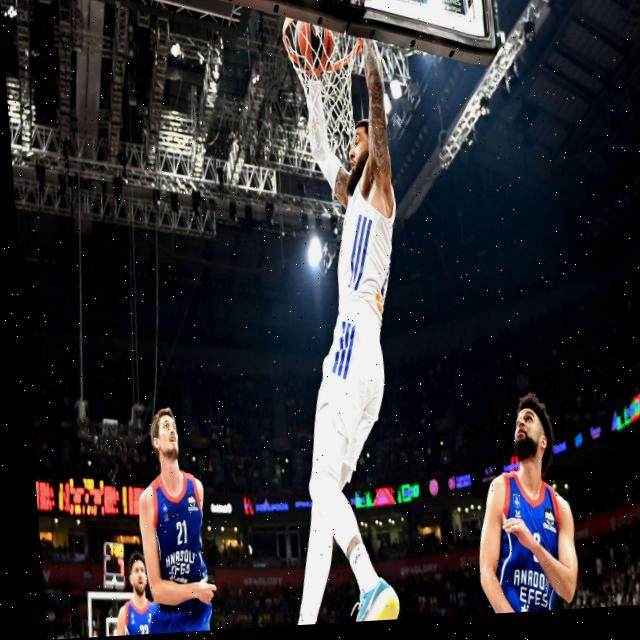basketball: (294, 18, 336, 77)
hoop: (281, 12, 371, 161)
